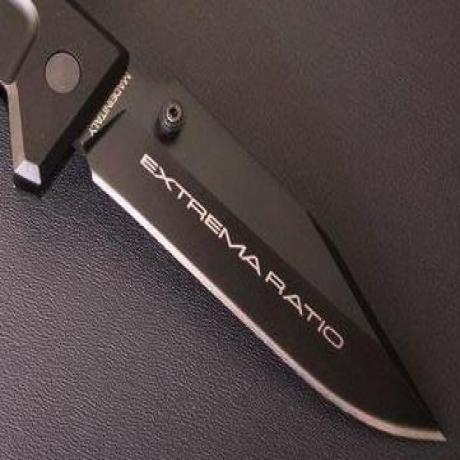weapon: (2, 0, 447, 443)
